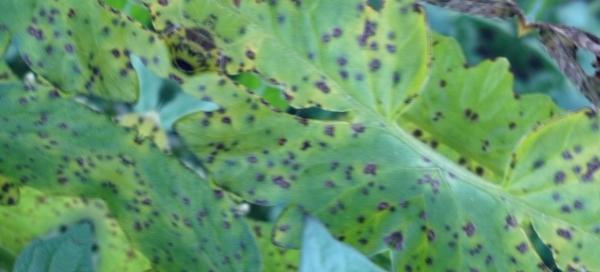Tomato Septoria leaf spot: (133, 0, 536, 272), (50, 137, 305, 272)
